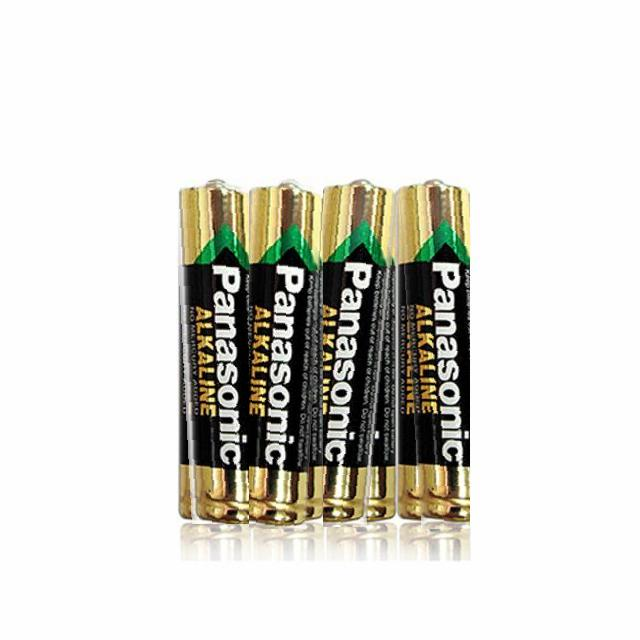battery: (323, 178, 400, 528), (174, 179, 252, 524), (249, 176, 324, 530), (398, 178, 470, 530)
